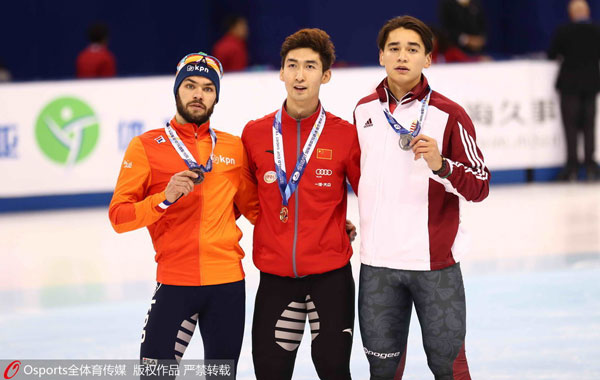wdj: (259, 22, 339, 102)
